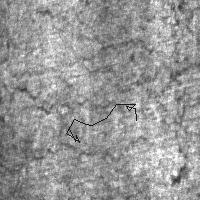crazing: (1, 87, 136, 162), (157, 1, 200, 187), (79, 36, 198, 90), (66, 104, 136, 142)
